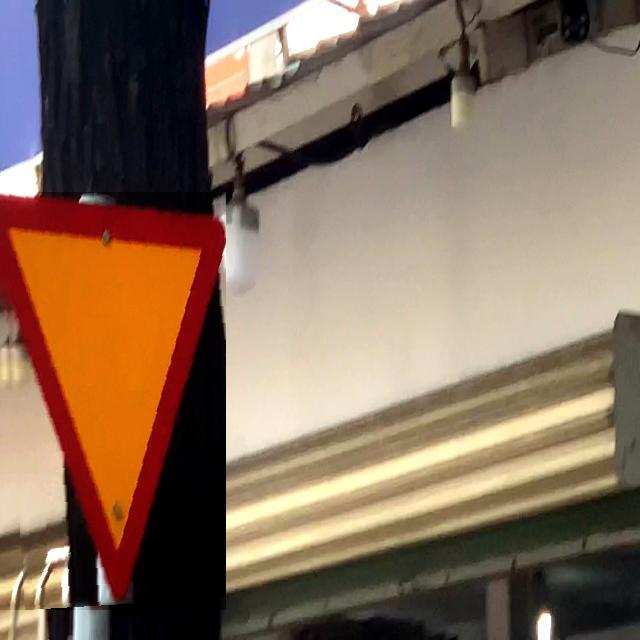W-208: (0, 192, 226, 610)
